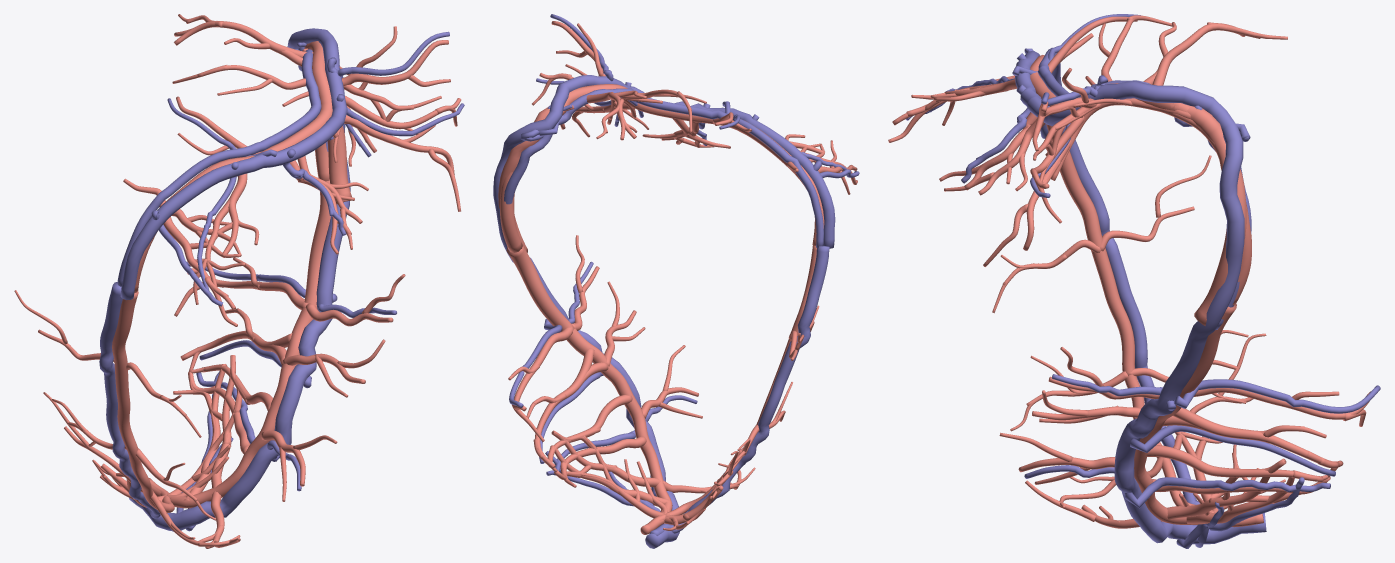
The model's file is vessels_38.glb.
3 renders of one model, left to right at view 1: azimuth 30°, elevation 25°; view 2: azimuth 150°, elevation 25°; view 3: azimuth 270°, elevation 25°, orthographic. The views are drawn at different scales.
Parts seen in each view (by area): view 1: Renderer Node; view 2: Renderer Node; view 3: Renderer Node.
Part boxes in pixels (x1,y1,x2,y2): Renderer Node: [14, 14, 464, 548]; Renderer Node: [493, 14, 859, 548]; Renderer Node: [888, 14, 1380, 548].
Size of the model in its own units: 94.34 by 122 by 95.26.
